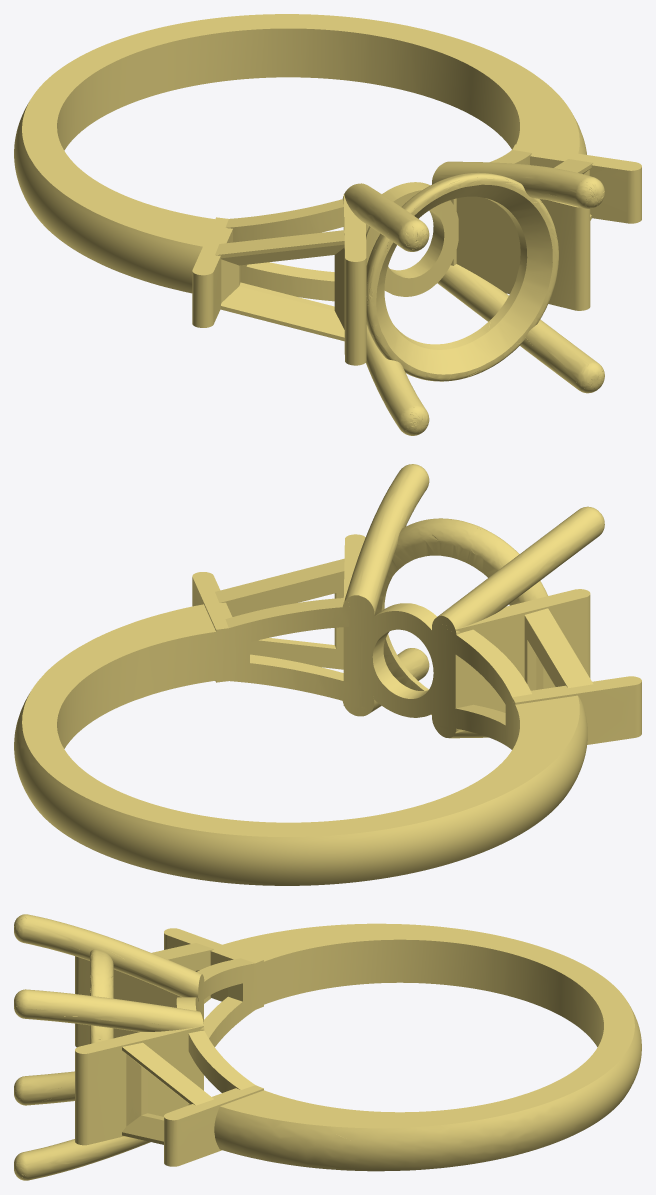
The picture shows the model from 3 angles, top to bottom: view 1: azimuth 30°, elevation 25°; view 2: azimuth 150°, elevation 25°; view 3: azimuth 270°, elevation 25°; orthographic projection. The views are drawn at different scales.
Visible parts, largest first — view 1: lr-0048; view 2: lr-0048; view 3: lr-0048.
Boxes of the visible parts, <box> form: lr-0048: <box>14,14,641,435</box>; lr-0048: <box>14,464,641,885</box>; lr-0048: <box>14,914,641,1180</box>.
Size of the model in its own units: 0.7932 by 0.3314 by 1.
